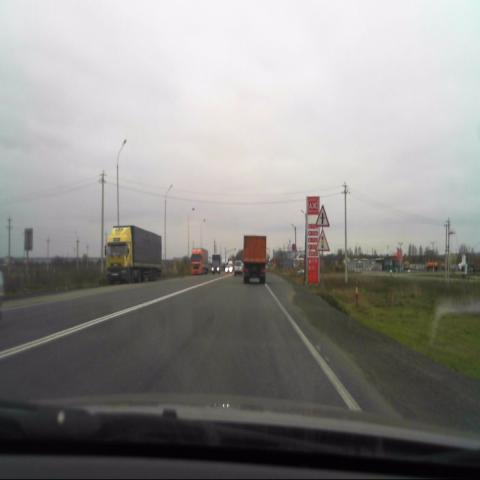1_8: (314, 229, 330, 252)
